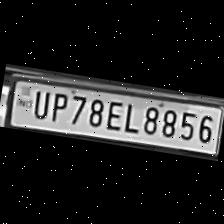5: (176, 106, 198, 142)
6: (193, 109, 217, 144)
7: (66, 90, 88, 125)
8: (138, 100, 162, 136), (84, 93, 106, 128), (158, 104, 180, 138)
E: (102, 96, 125, 131)
L: (119, 99, 142, 133)
P: (46, 86, 70, 122)
U: (28, 85, 52, 120)
